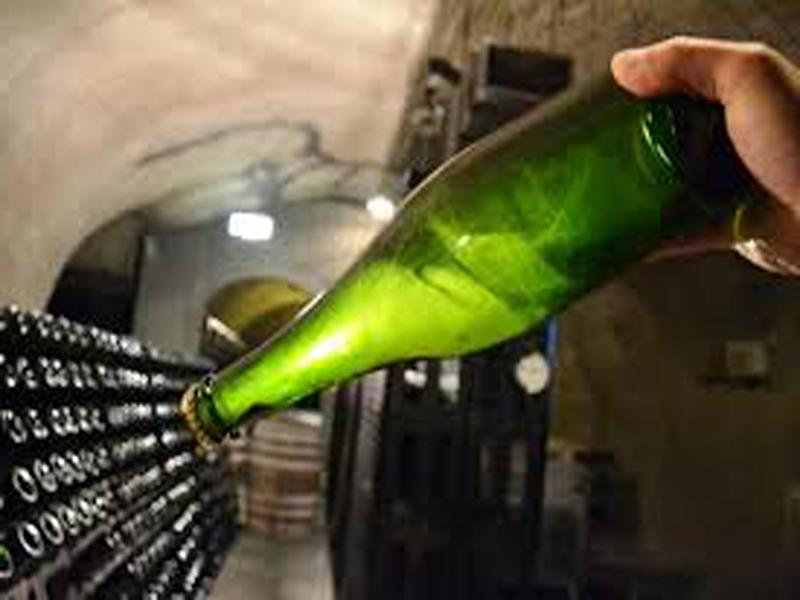Beer: (179, 56, 744, 456)
